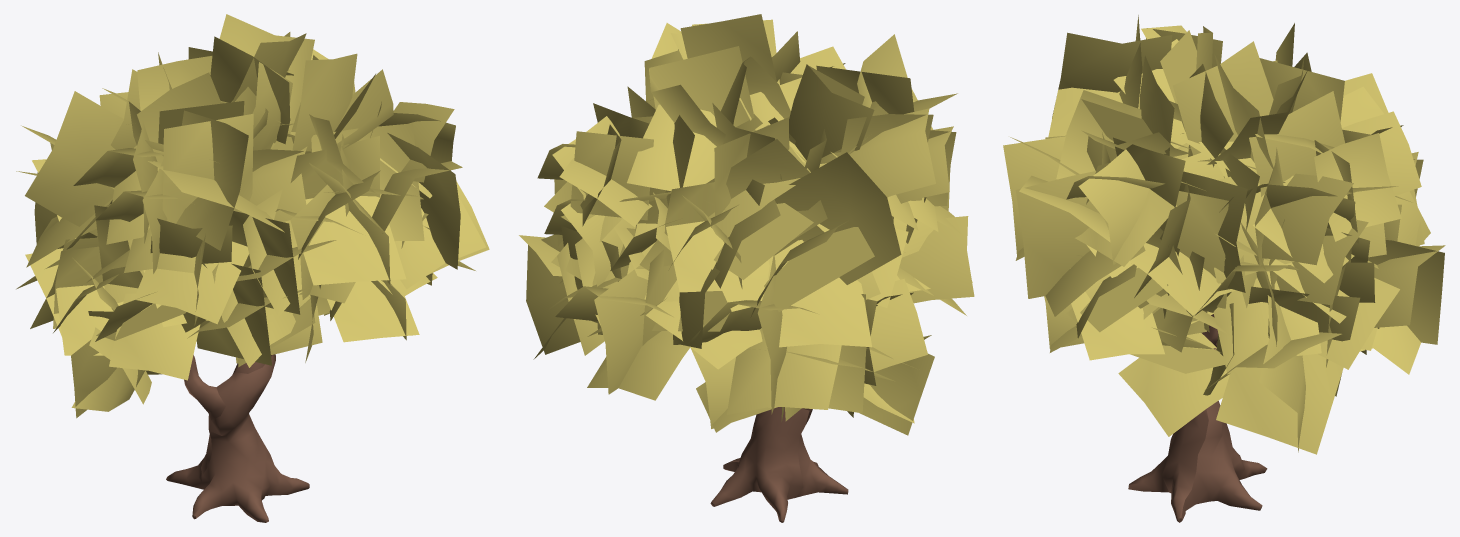
File: Tree.fbx
3 views of the same model, side by side, from view 1: azimuth 30°, elevation 25°; view 2: azimuth 150°, elevation 25°; view 3: azimuth 270°, elevation 25° (orthographic). The views are drawn at different scales.
Parts seen in each view (by area): view 1: Tr_01_Leaves_autumn_001, Tr_01_Stem_autumn_001; view 2: Tr_01_Leaves_autumn_001, Tr_01_Stem_autumn_001; view 3: Tr_01_Leaves_autumn_001, Tr_01_Stem_autumn_001.
Part boxes in pixels (bbox=[...]): Tr_01_Leaves_autumn_001: bbox=[16, 14, 489, 418]; Tr_01_Stem_autumn_001: bbox=[166, 354, 309, 522]; Tr_01_Leaves_autumn_001: bbox=[519, 14, 974, 435]; Tr_01_Stem_autumn_001: bbox=[710, 407, 848, 522]; Tr_01_Leaves_autumn_001: bbox=[1003, 15, 1445, 454]; Tr_01_Stem_autumn_001: bbox=[1128, 314, 1267, 522].
Bounding box in the file's own units: 794 × 871 × 759.
